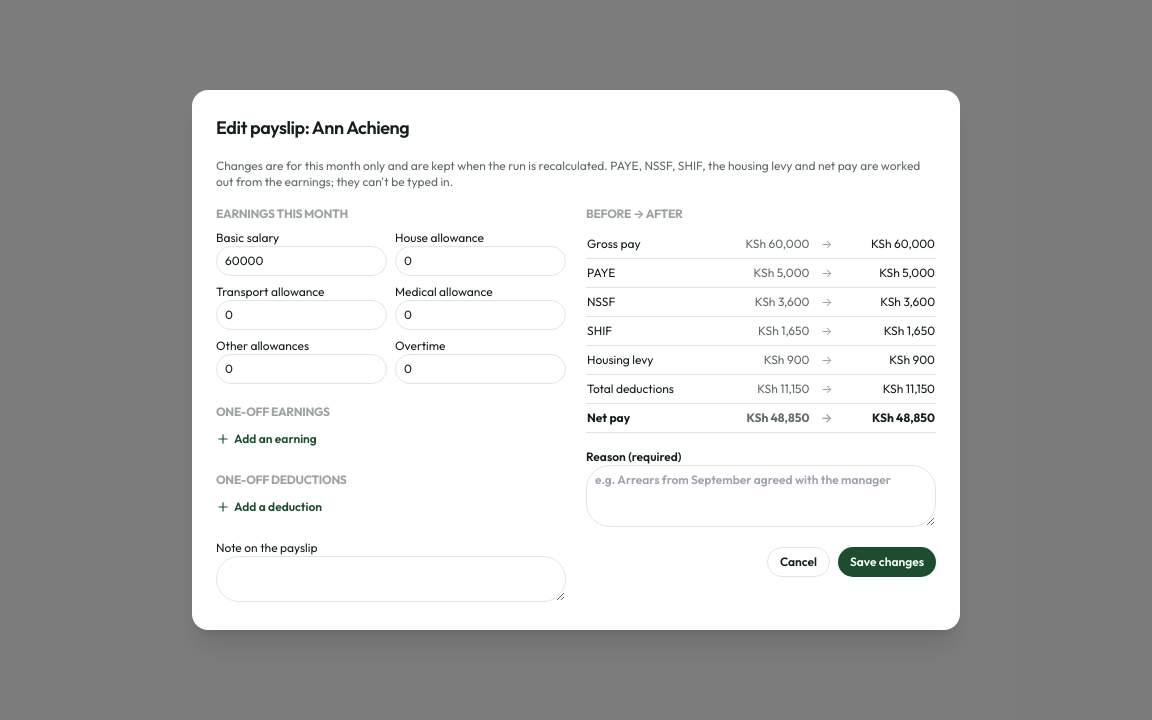
Test: PayslipEditModal › a reason is required
Later steps or results of the test are not shown.
Replace the text in the field labelled "Basic salary" with "65000" at (302, 261), box [216,246,387,276]
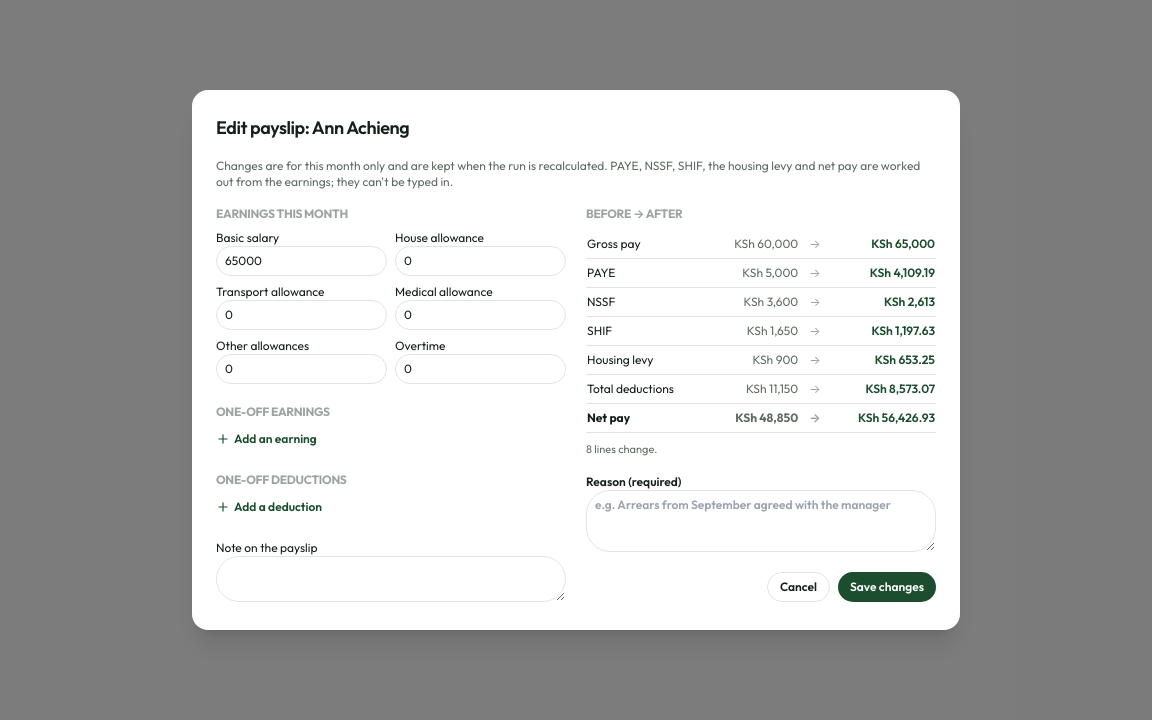
Click the button "Save changes" at (887, 586), box [838,572,936,602]
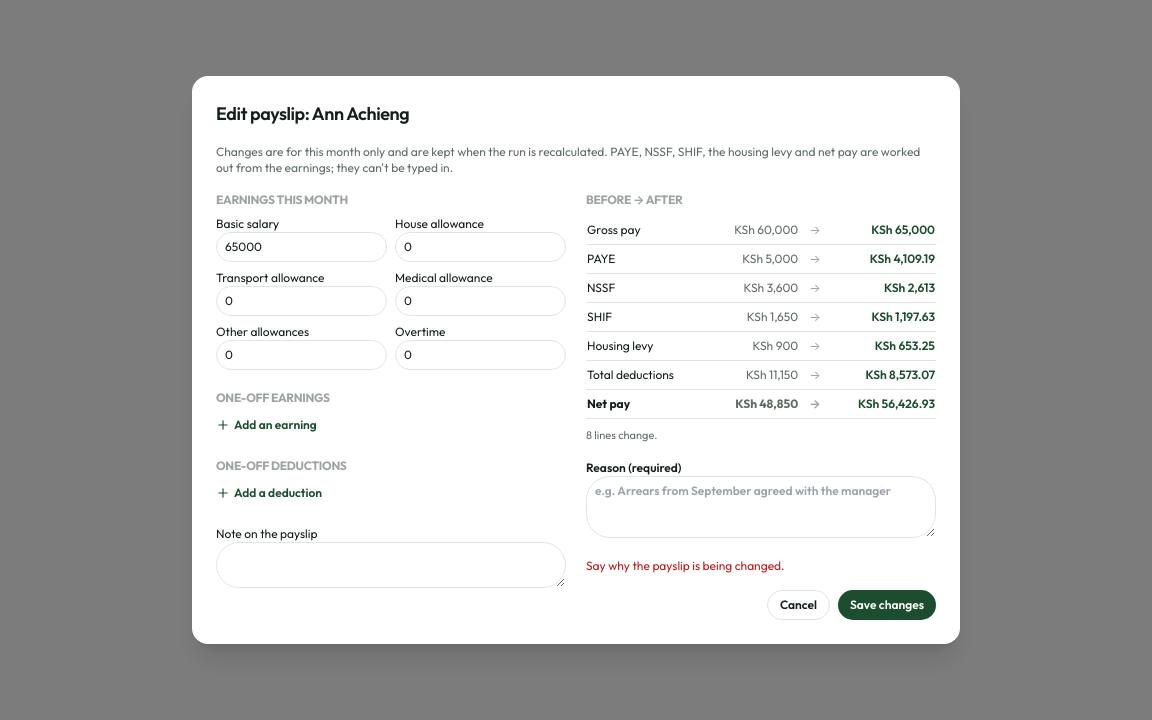
Now the message shows "Say why", box [586,558,784,573]
